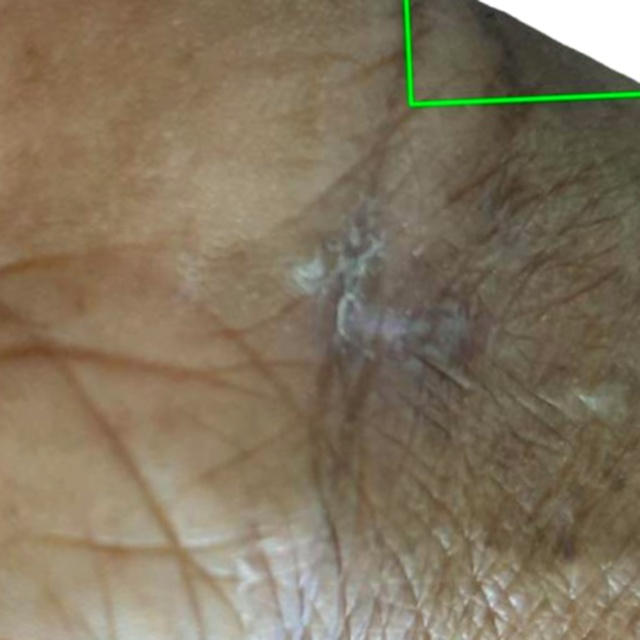Scabies: (406, 0, 639, 104)
